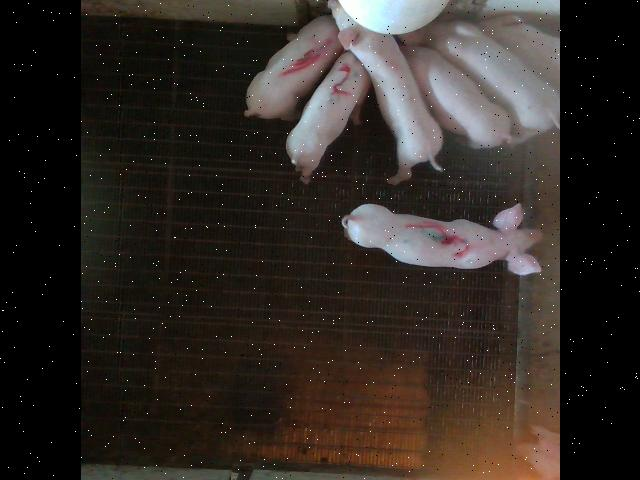pig-1: (244, 15, 342, 120)
pig-3: (341, 204, 541, 274)
pig-5: (285, 51, 369, 184)
